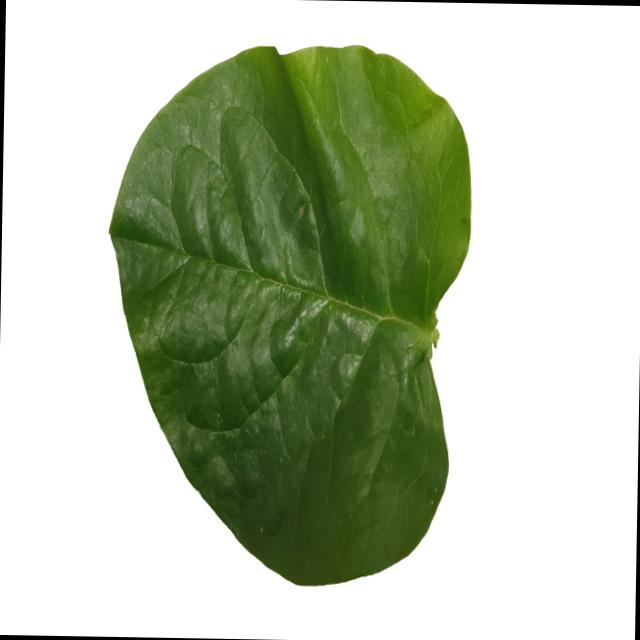Medicinal-Basale: (104, 38, 474, 591)
